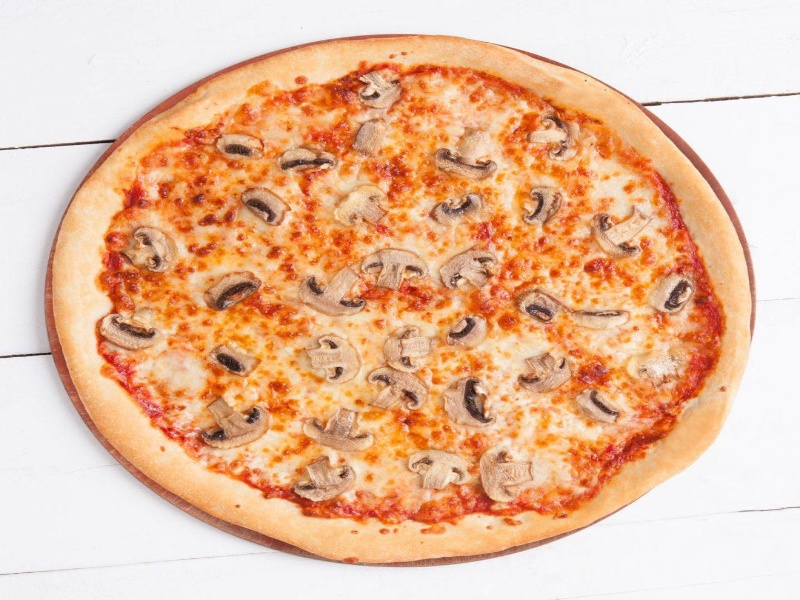champignon: (193, 396, 274, 456), (588, 198, 657, 263), (354, 244, 434, 297), (120, 223, 184, 289), (298, 403, 379, 455), (524, 104, 592, 162), (363, 365, 437, 418), (509, 346, 583, 398), (290, 458, 364, 509), (445, 377, 509, 435), (478, 442, 536, 506), (300, 331, 365, 388), (404, 443, 473, 494), (426, 147, 512, 184), (334, 183, 396, 233), (348, 68, 419, 111), (238, 181, 292, 236), (644, 271, 702, 320), (200, 272, 266, 315), (440, 309, 500, 356), (440, 247, 502, 292), (204, 338, 267, 382), (383, 325, 438, 374), (512, 289, 573, 333), (517, 181, 571, 230), (98, 314, 166, 351), (275, 143, 344, 175), (212, 130, 273, 164), (426, 194, 490, 225)
